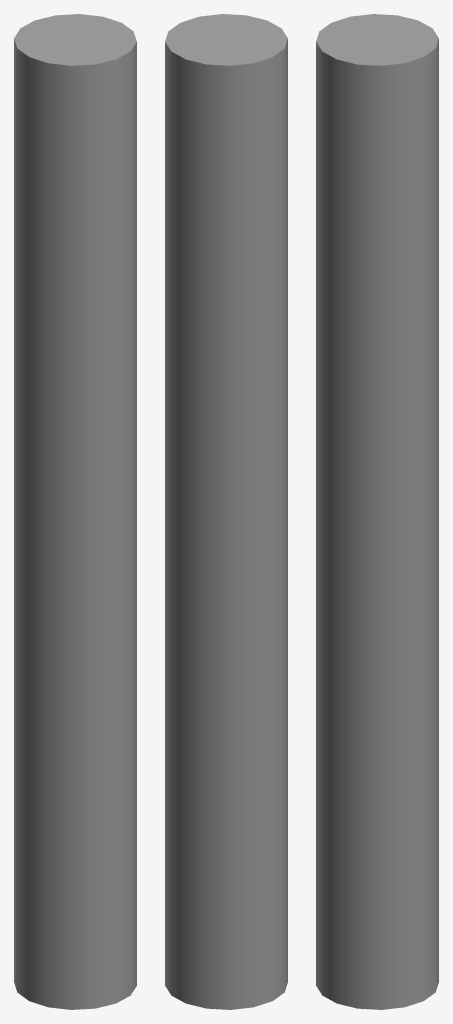
The model's file is addkui.fbx.
3 renders of one model, left to right at view 1: azimuth 30°, elevation 25°; view 2: azimuth 150°, elevation 25°; view 3: azimuth 330°, elevation 25°, orthographic.
Visible parts, largest first — view 1: addkui; view 2: addkui; view 3: addkui.
Boxes of the visible parts, x1,y1,x2,y2 form: addkui: (14,14,136,1009); addkui: (165,14,287,1009); addkui: (316,14,438,1009).
Size of the model in its own units: 11.76 by 101 by 11.76.
